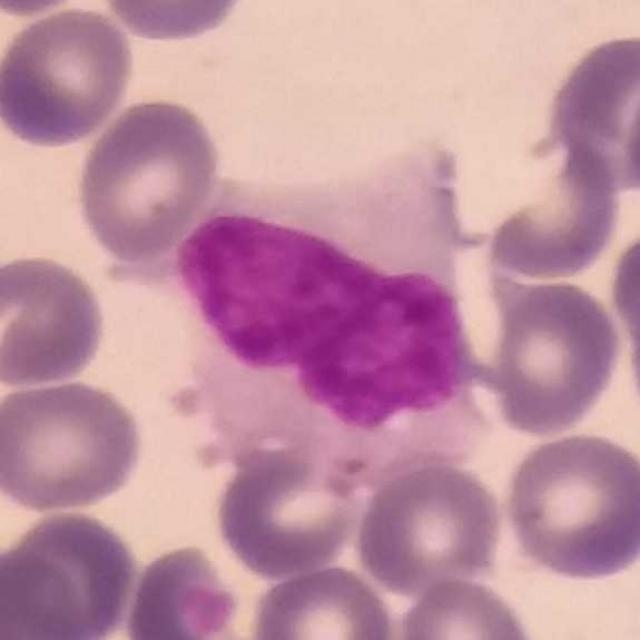Monocyte: (178, 137, 490, 468)
RBC: (70, 92, 224, 266), (480, 277, 626, 439), (349, 456, 508, 598), (499, 428, 639, 586), (210, 446, 368, 581), (0, 375, 149, 515), (0, 8, 137, 156), (0, 506, 140, 640), (498, 138, 622, 280), (541, 26, 640, 198), (0, 249, 111, 390), (120, 540, 260, 640), (247, 561, 400, 640), (392, 573, 542, 640), (94, 0, 255, 46), (605, 217, 640, 416)
